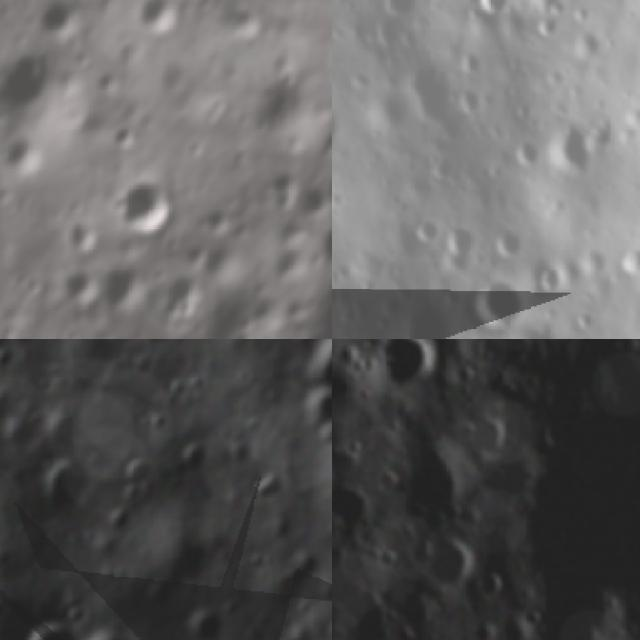crater: (98, 164, 178, 244), (403, 449, 479, 524), (0, 40, 64, 126), (91, 254, 152, 322), (150, 266, 210, 332), (419, 534, 477, 598), (372, 339, 445, 389), (39, 451, 91, 516), (124, 0, 192, 49), (398, 69, 455, 125), (22, 0, 85, 50), (332, 478, 379, 539), (544, 121, 600, 172), (474, 278, 524, 333), (0, 125, 46, 182), (58, 210, 109, 258), (468, 407, 517, 456), (249, 461, 293, 512), (297, 382, 332, 442), (477, 339, 540, 372), (399, 299, 450, 339), (40, 404, 80, 448), (180, 435, 219, 480), (181, 602, 225, 640), (307, 212, 332, 278), (115, 452, 163, 486), (444, 230, 481, 271), (304, 339, 332, 390), (571, 242, 602, 282), (16, 620, 78, 640), (475, 570, 509, 605), (507, 137, 540, 173), (572, 26, 604, 60), (535, 266, 564, 302), (534, 14, 568, 40), (76, 626, 139, 640), (414, 218, 442, 249), (377, 20, 408, 48), (423, 157, 455, 184), (315, 159, 332, 207), (496, 229, 519, 262), (458, 49, 484, 78), (621, 242, 640, 281), (574, 310, 599, 332), (476, 0, 509, 16), (460, 92, 482, 115), (378, 0, 419, 9), (332, 106, 342, 141), (536, 0, 562, 11)
